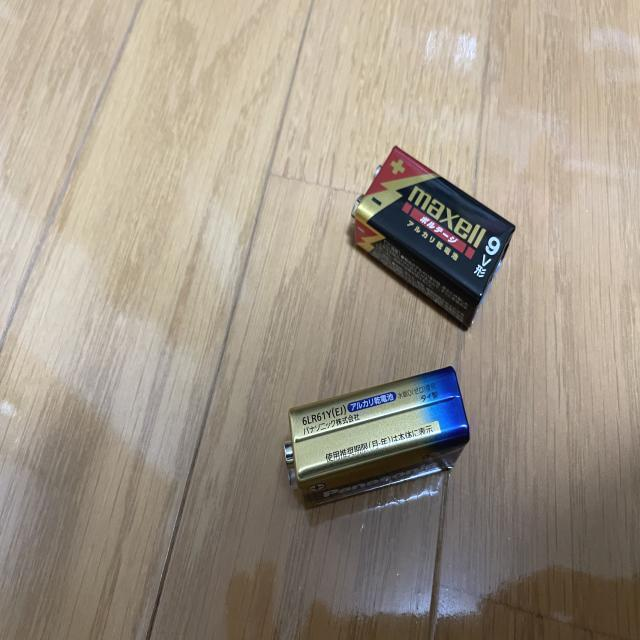9V: (350, 146, 516, 332), (281, 365, 470, 510)
